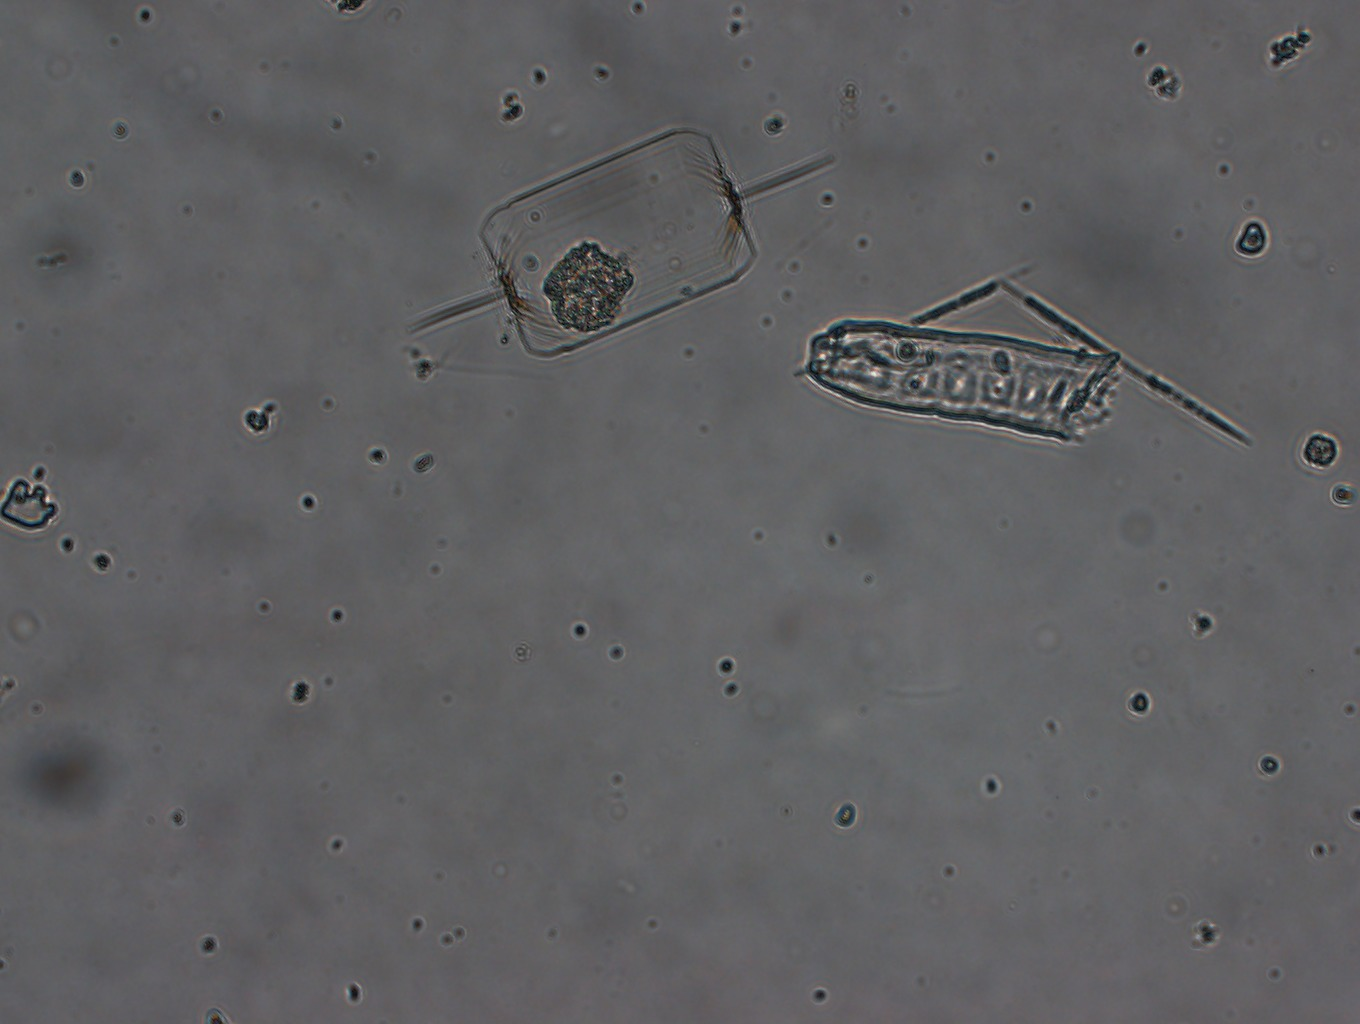ditylum: (403, 122, 838, 366)
